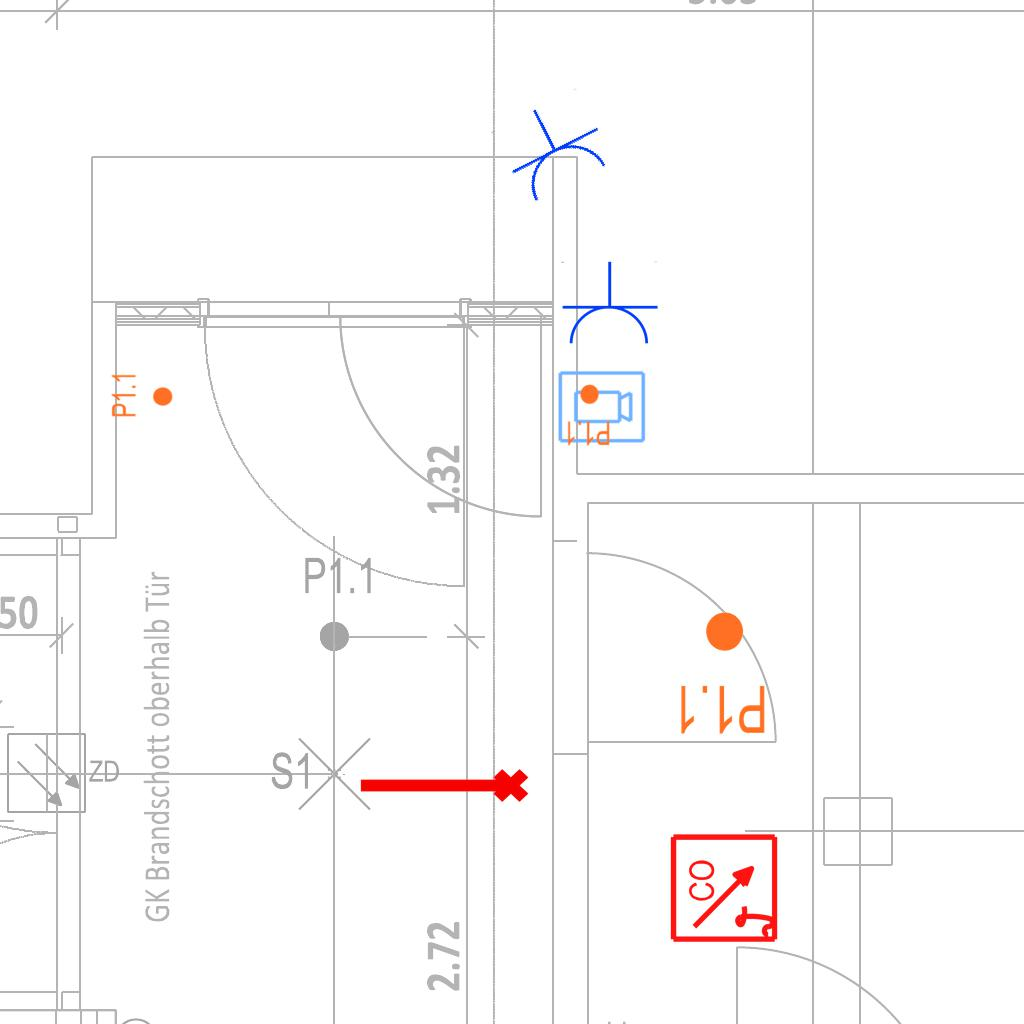ASR_Ansaugoeffnung: (355, 765, 531, 811)
Downlight_LED_Einbauleuchten_Flur: (675, 609, 768, 737), (110, 372, 174, 418), (565, 383, 611, 447)
KFO_Kamera_mit_Festobjektiv: (556, 369, 647, 446)
ROA_Rauchmelder_optisch_mit_Signalgeber_(Sockelsirene): (669, 831, 782, 944)
Schukosteckdose_einfach: (488, 87, 618, 210), (559, 261, 659, 348)
